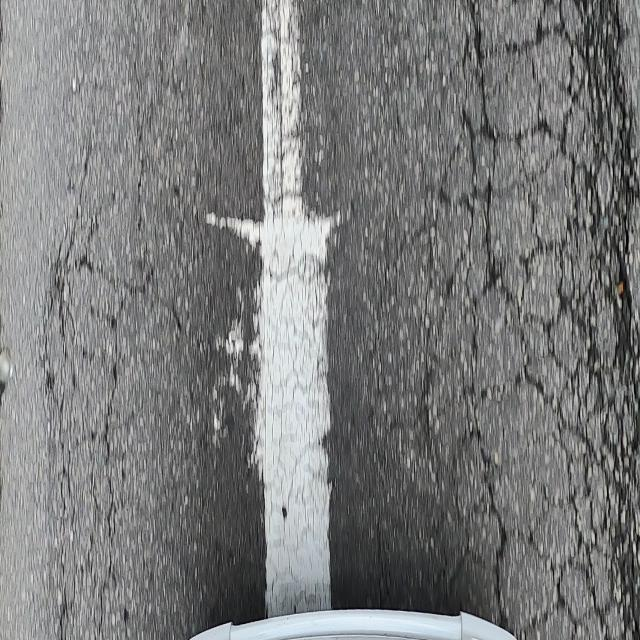Retak-Buaya: (422, 0, 640, 640), (43, 263, 150, 640)
